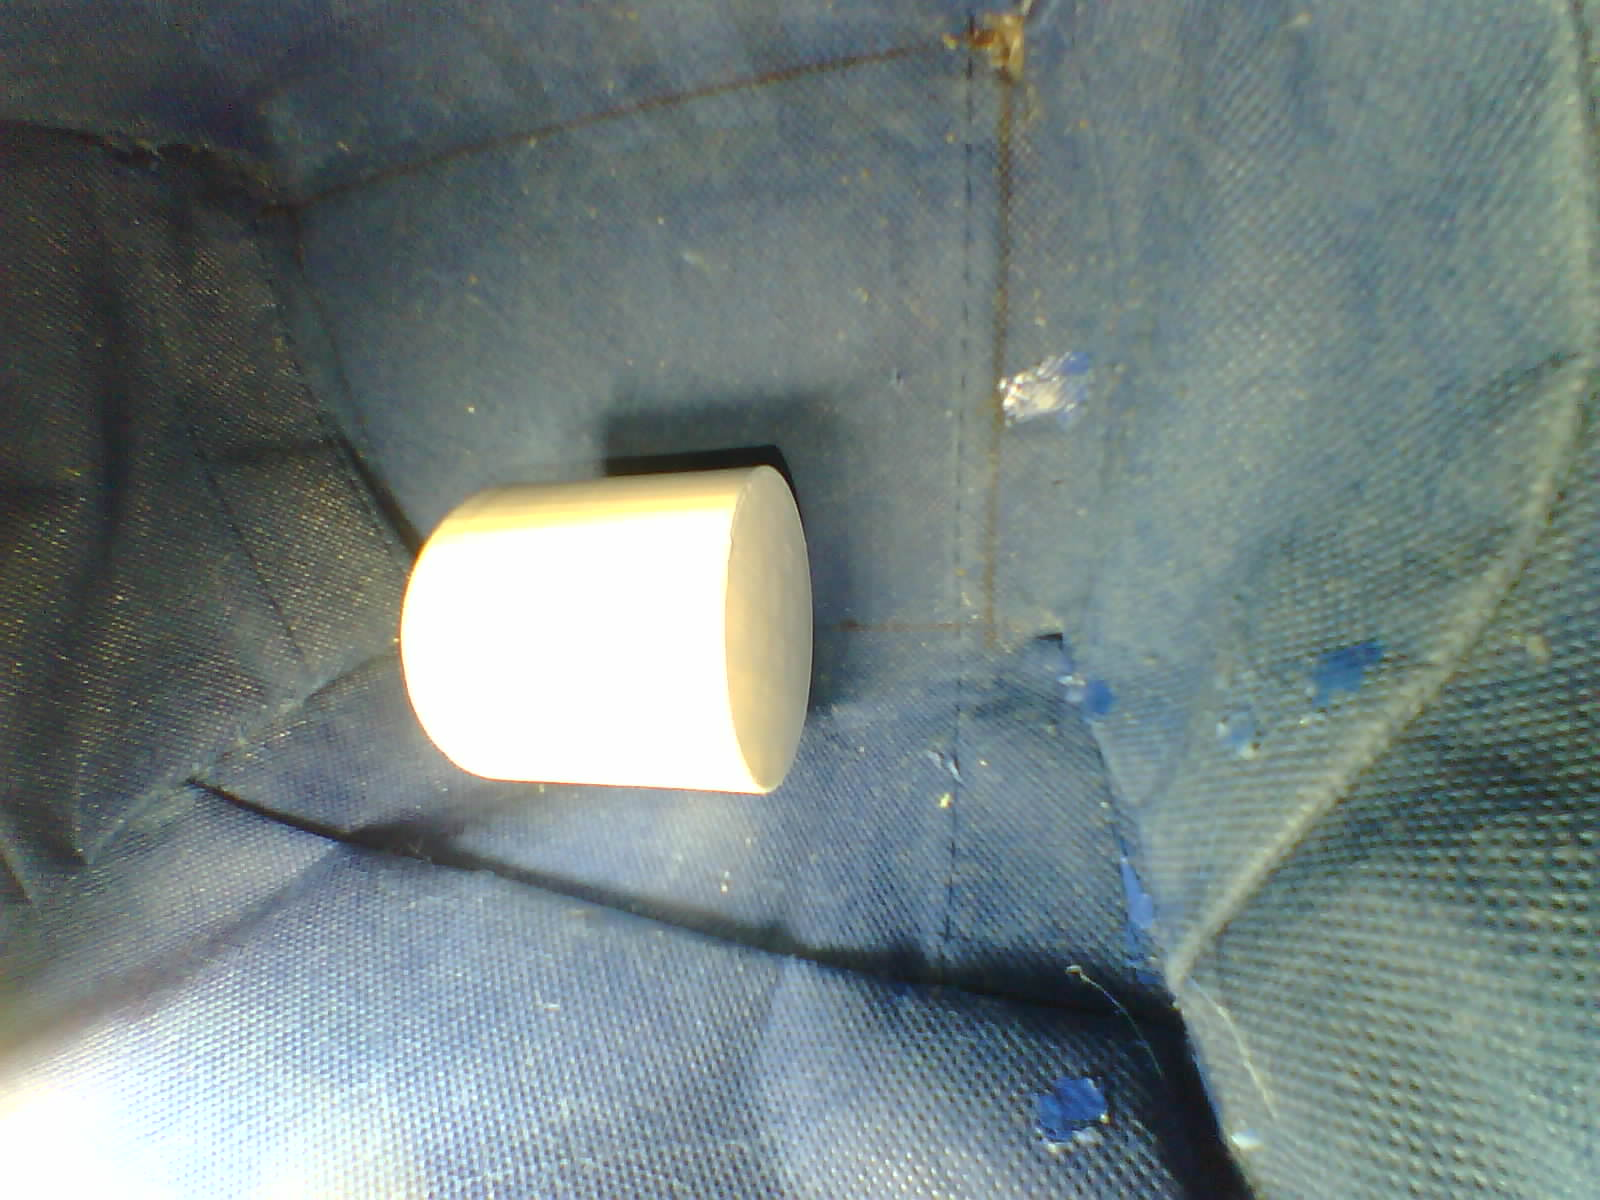cylinder-hard: (388, 456, 826, 813)
